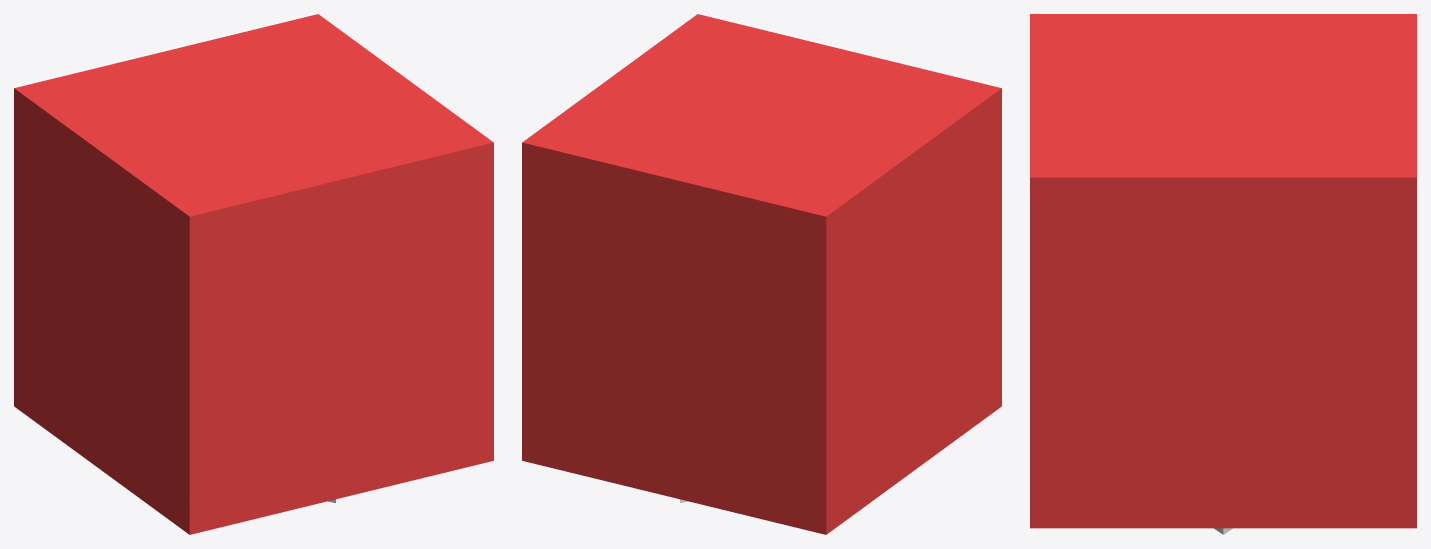
File: spring.glb
3 views of the same model, side by side, from view 1: azimuth 30°, elevation 25°; view 2: azimuth 150°, elevation 25°; view 3: azimuth 270°, elevation 25° (orthographic). The views are drawn at different scales.
Parts seen in each view (by area): view 1: cube; view 2: cube; view 3: cube.
Part boxes in pixels (x1=…): cube: x1=14, y1=14, x2=493, y2=534; cube: x1=522, y1=14, x2=1001, y2=534; cube: x1=1030, y1=14, x2=1416, y2=528.
Bounding box in the file's own units: 1 × 1.06 × 1.
Materials: 7 (7 with a texture image).
